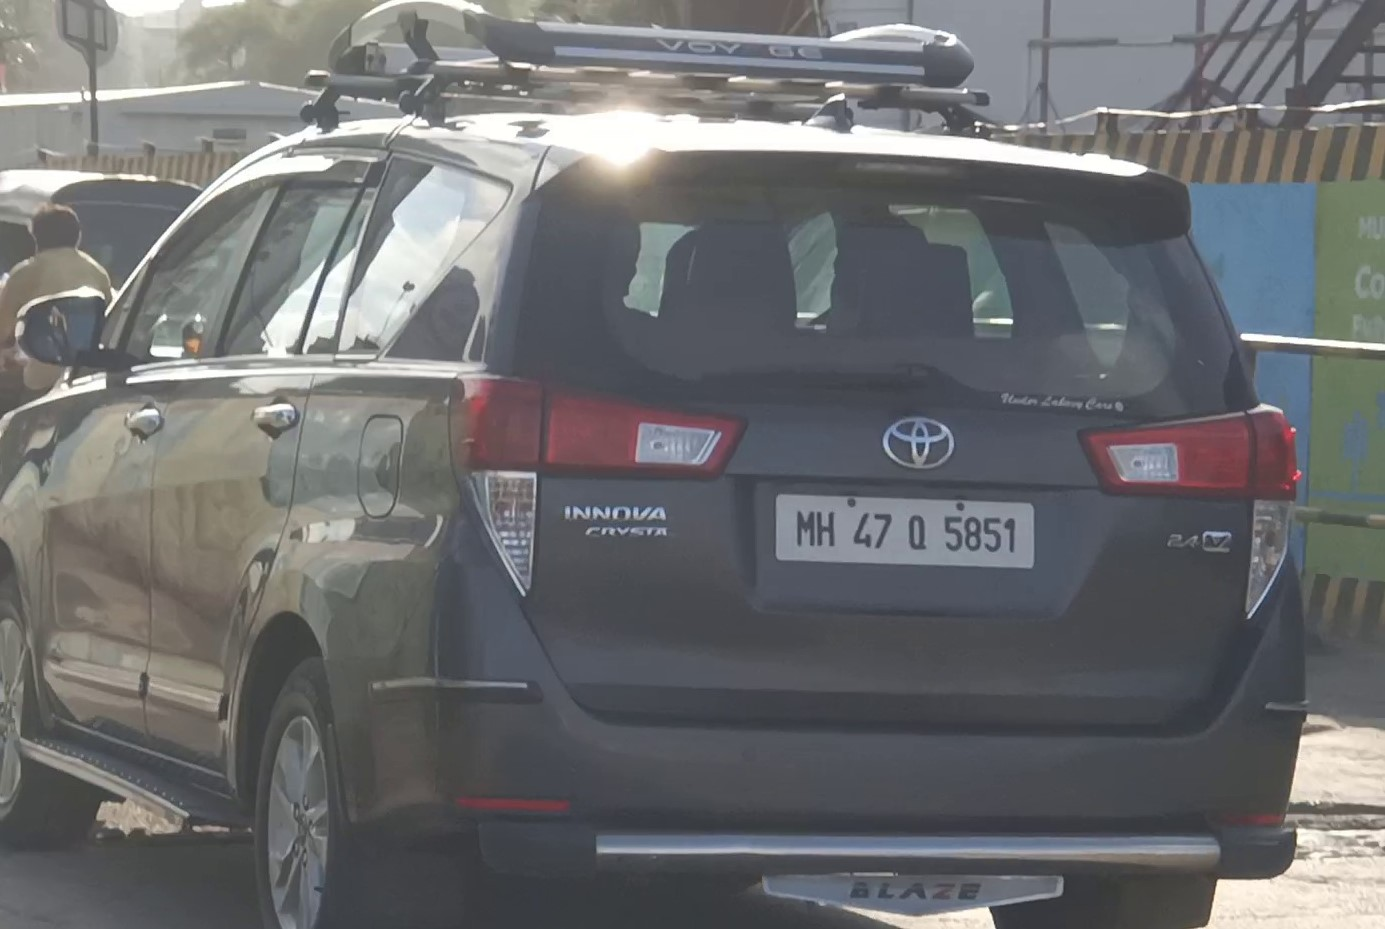MH4705851: (773, 491, 1037, 570)
